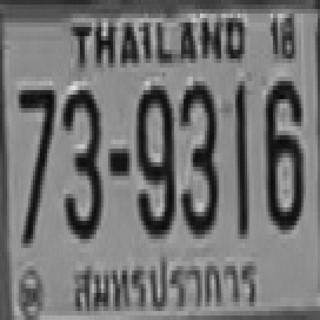N01: (233, 83, 247, 232)
N03: (179, 77, 217, 230), (61, 86, 99, 234)
N06: (263, 77, 301, 225)
N07: (16, 86, 54, 243)
N09: (134, 81, 174, 234)
P57: (69, 255, 264, 316)
